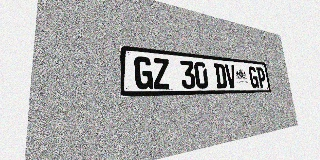0: (194, 61, 209, 89)
3: (180, 60, 196, 89)
D: (214, 63, 227, 88)
G: (134, 56, 153, 89), (248, 66, 259, 88)
P: (256, 67, 267, 88)
V: (224, 64, 237, 88)
Z: (152, 58, 170, 89)
